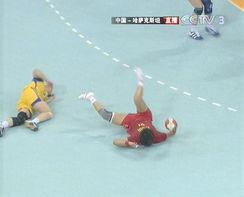down: (72, 67, 180, 149), (1, 68, 63, 138)
